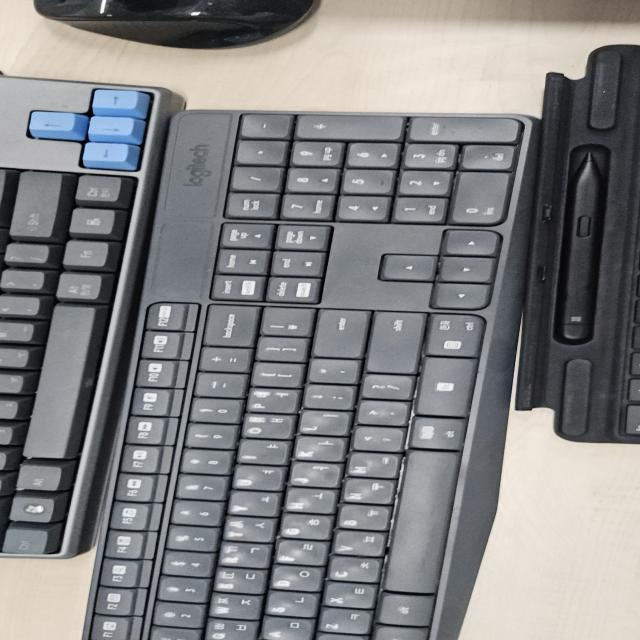Keyboard: (84, 107, 541, 640)
Mouse: (31, 0, 321, 50)
